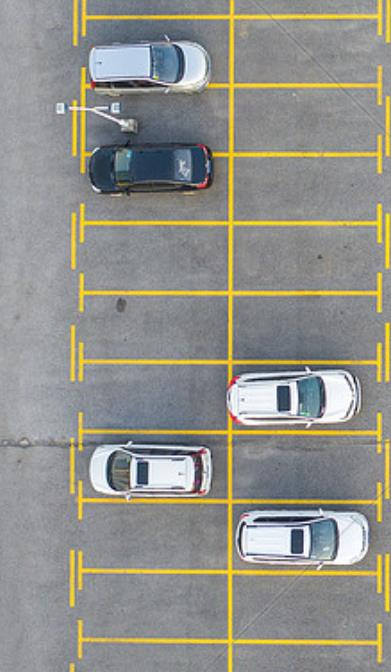car: (225, 366, 364, 431), (86, 438, 215, 506), (235, 505, 371, 569), (86, 136, 214, 200), (86, 35, 215, 96)
